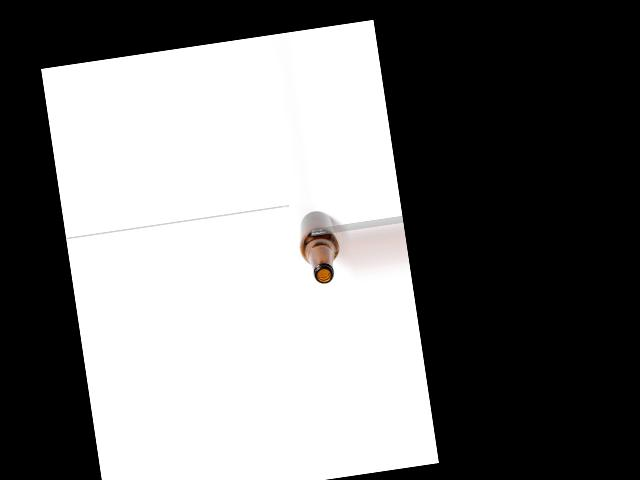beer: (295, 208, 345, 286)
